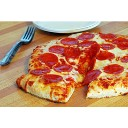pepperonipizza: (29, 33, 128, 97)
